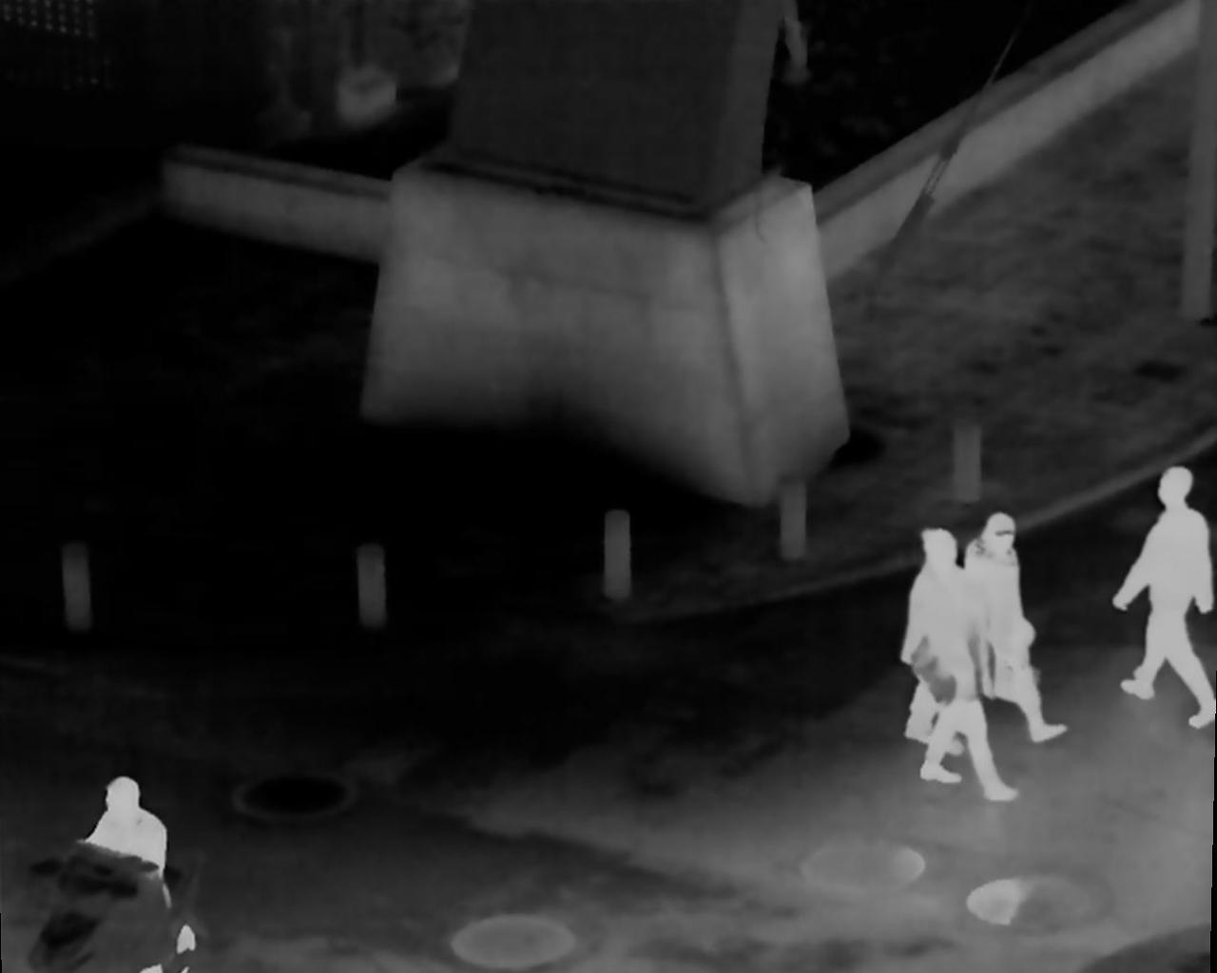person: (1104, 464, 1216, 730), (915, 580, 1025, 801), (960, 516, 1063, 748), (84, 778, 175, 947), (906, 533, 968, 753)
